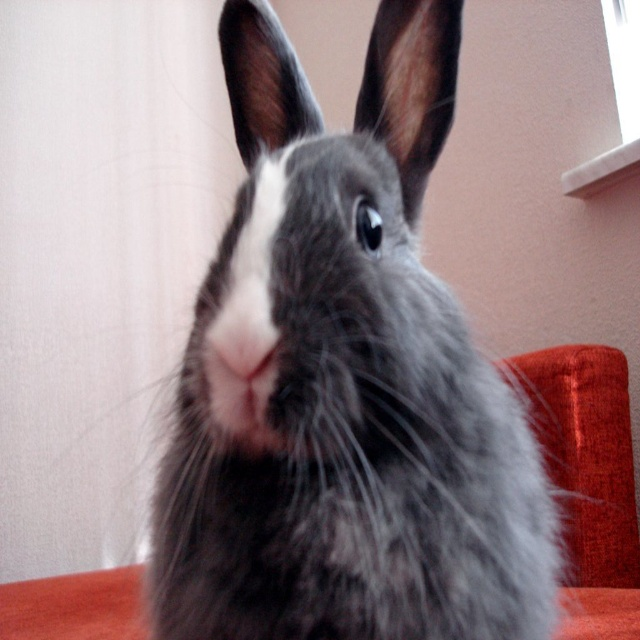Rabbit: (61, 0, 588, 633)
